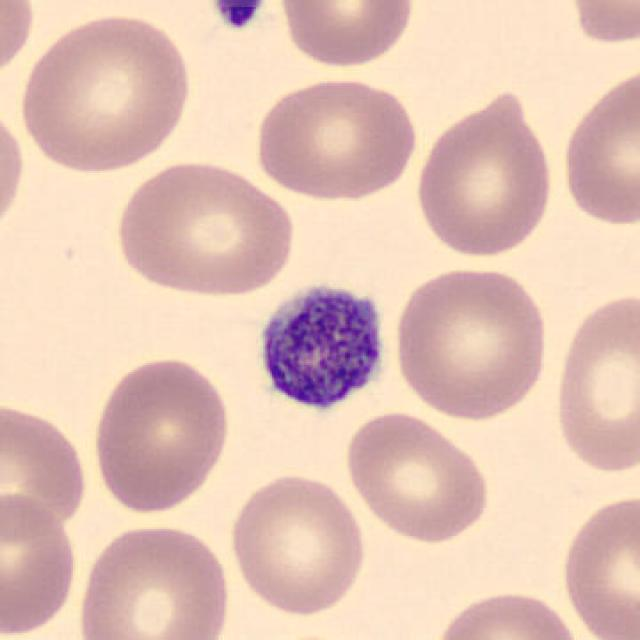Platelets: (249, 273, 393, 420), (210, 0, 268, 32)
RBC: (14, 7, 196, 176), (110, 155, 299, 300), (389, 263, 553, 423), (411, 85, 560, 261), (87, 352, 235, 516), (251, 72, 421, 203), (226, 469, 370, 619), (342, 407, 494, 547), (73, 520, 235, 640), (550, 286, 638, 480), (556, 62, 638, 231), (0, 395, 92, 543), (556, 490, 638, 640), (0, 488, 80, 638), (274, 0, 419, 71), (428, 585, 585, 640), (0, 98, 28, 243), (560, 0, 640, 49), (0, 0, 39, 90)
